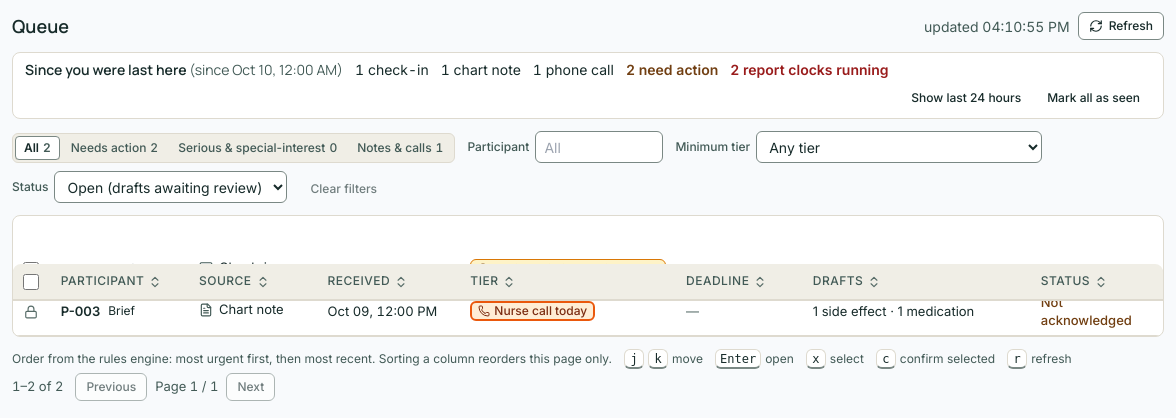
Test: Queue page: since you were last here › Mark all as seen moves the cut-off to now and stores it
Expected: the list named "What is new" shows "1 check-in", [355,61,429,78]
Click the button "Mark all as seen". click: (1094, 98)
box: [1036,84,1151,112]
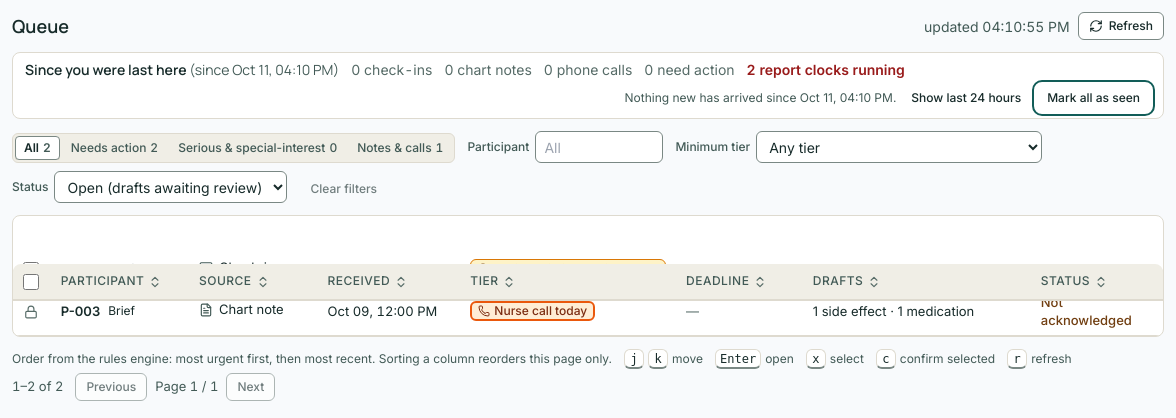
Expected: the list named "What is new" shows "0 check-ins", [351,61,432,78]
Expected: the list named "What is new" shows "0 need action", [644,61,735,78]
